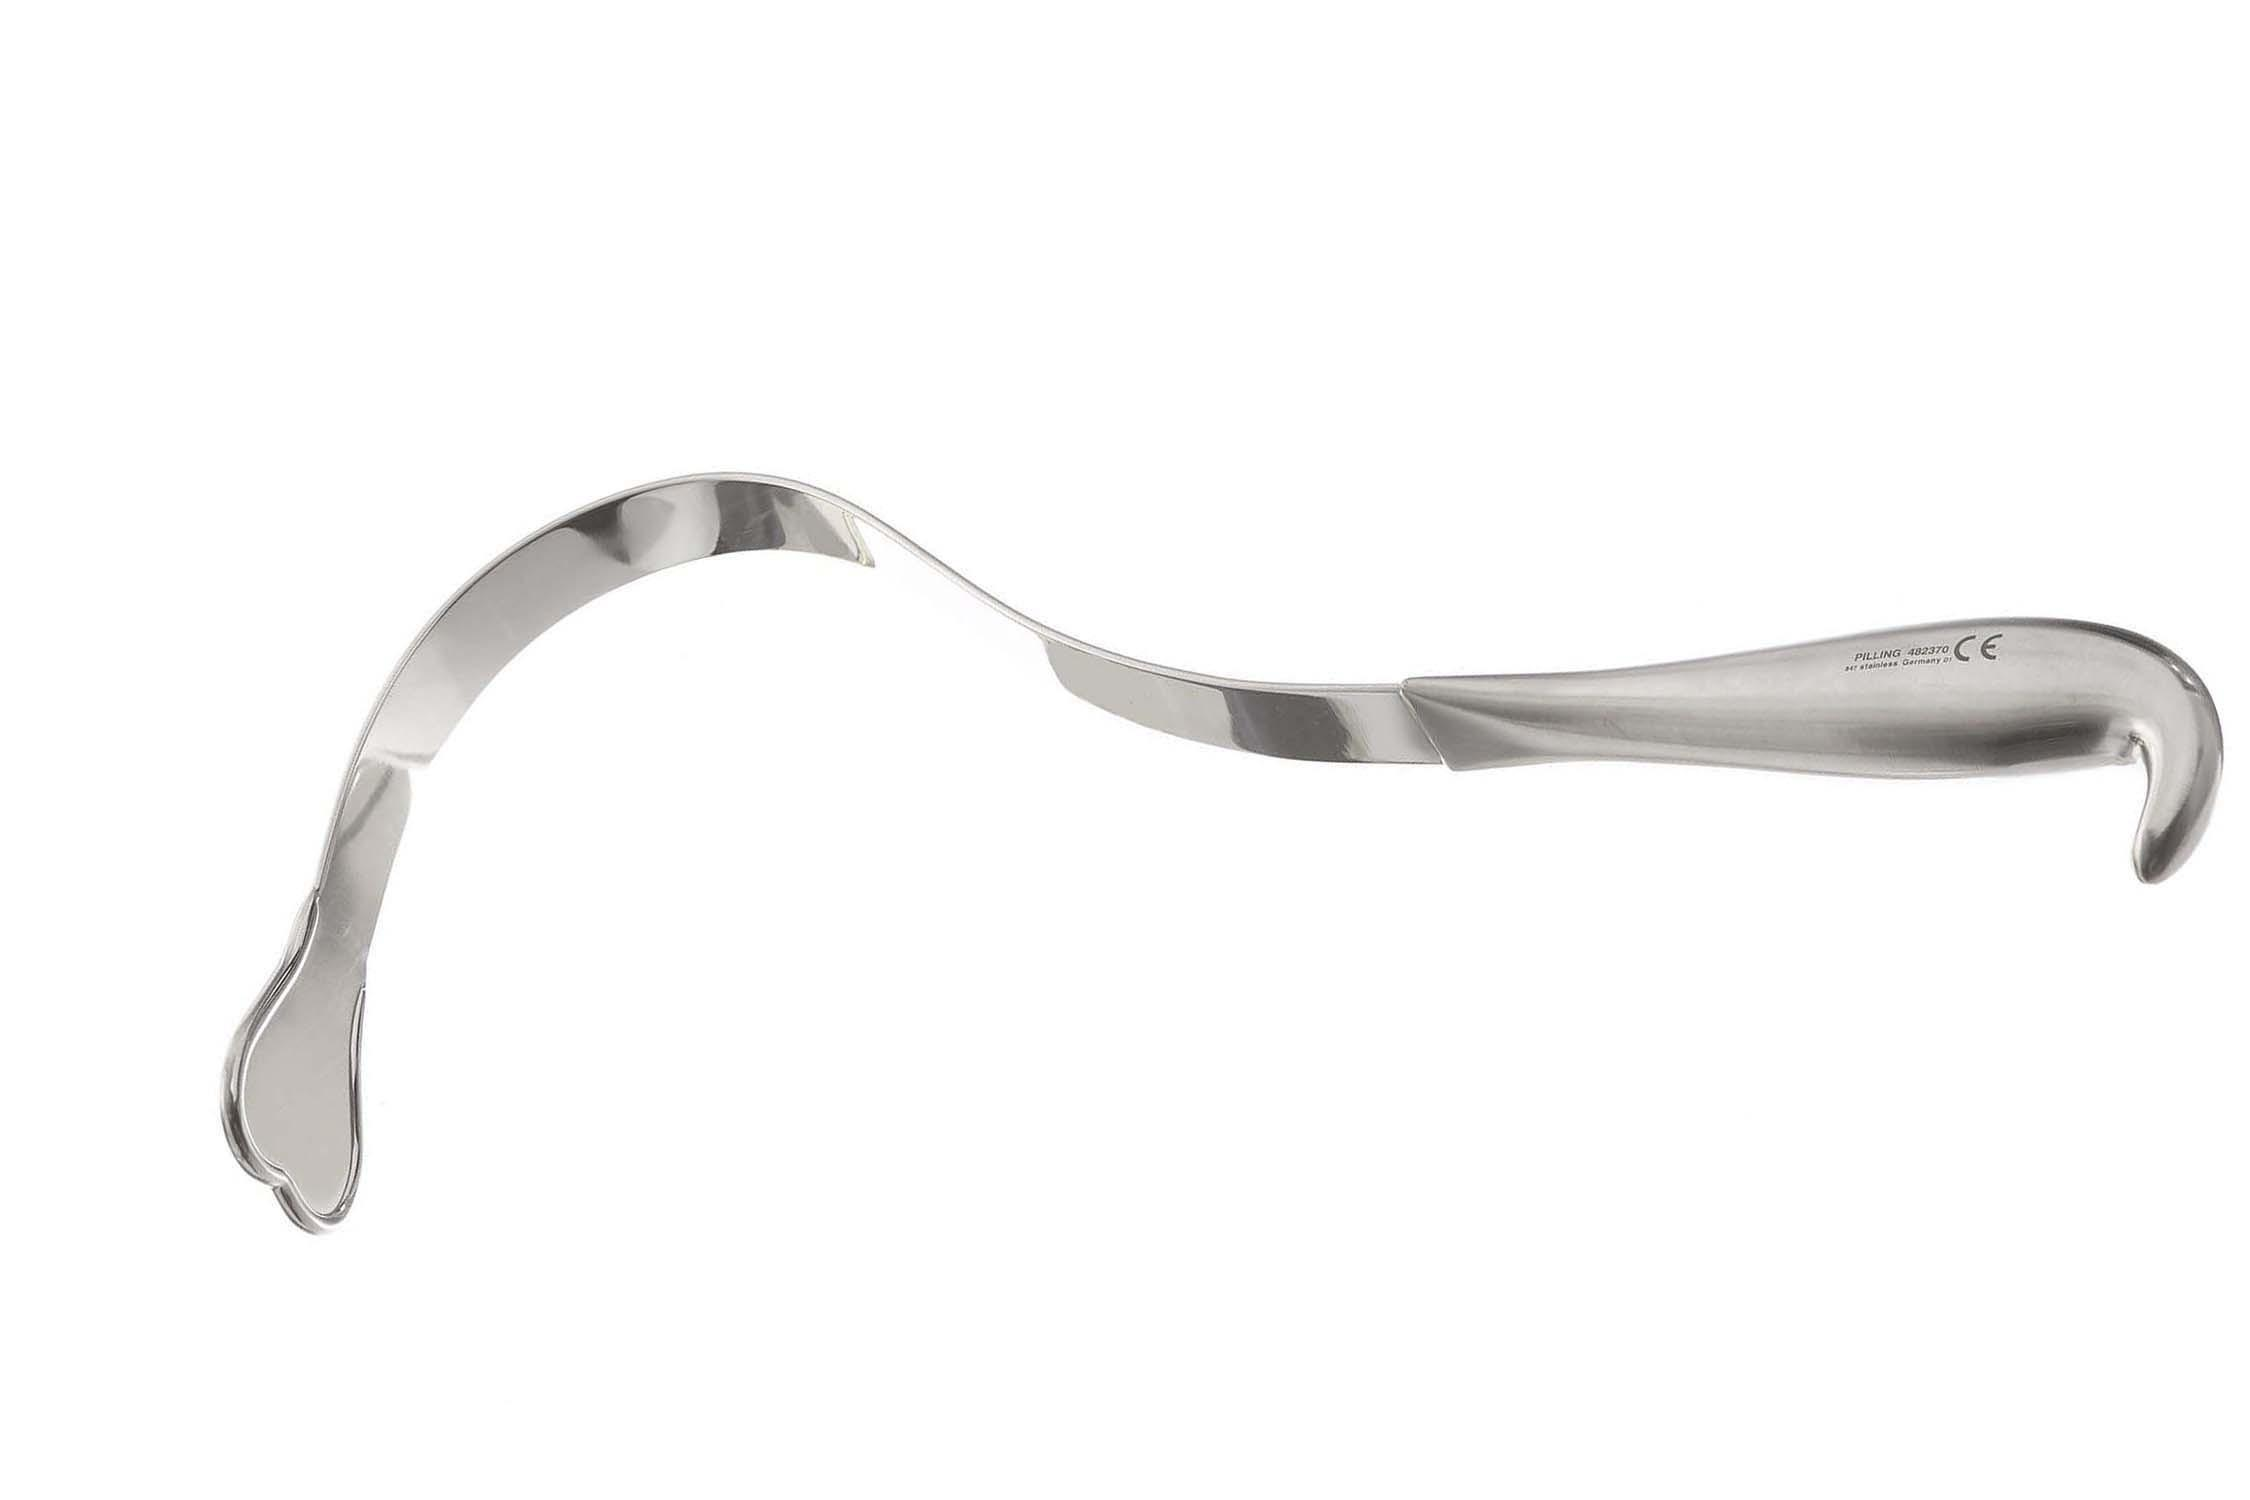Harrington Retractor: (171, 432, 2230, 1287)
